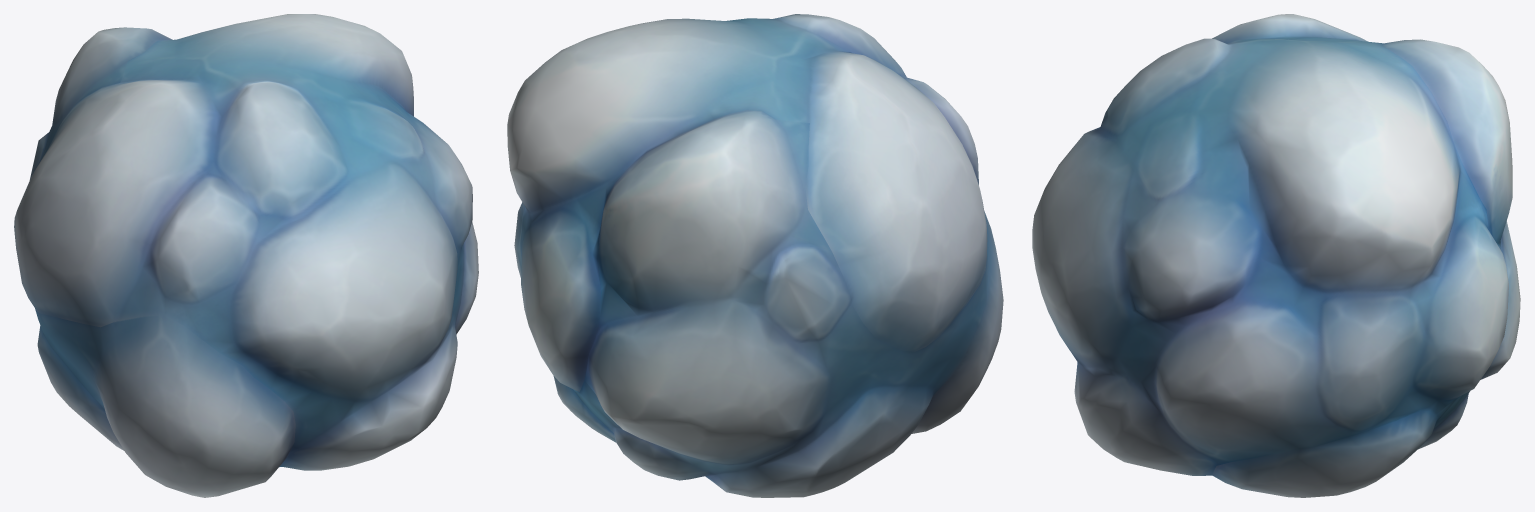
File: Planet_SnowBear.fbx
The picture shows the model from 3 angles, left to right: view 1: azimuth 30°, elevation 25°; view 2: azimuth 150°, elevation 25°; view 3: azimuth 270°, elevation 25°; orthographic projection. The views are drawn at different scales.
Parts seen in each view (by area): view 1: Planet_SnowBear; view 2: Planet_SnowBear; view 3: Planet_SnowBear.
Part boxes in pixels (<box>): Planet_SnowBear: <box>14,14,478,497</box>; Planet_SnowBear: <box>507,14,1003,497</box>; Planet_SnowBear: <box>1032,14,1520,497</box>.
Size of the model in its own units: 219 by 210 by 220.
